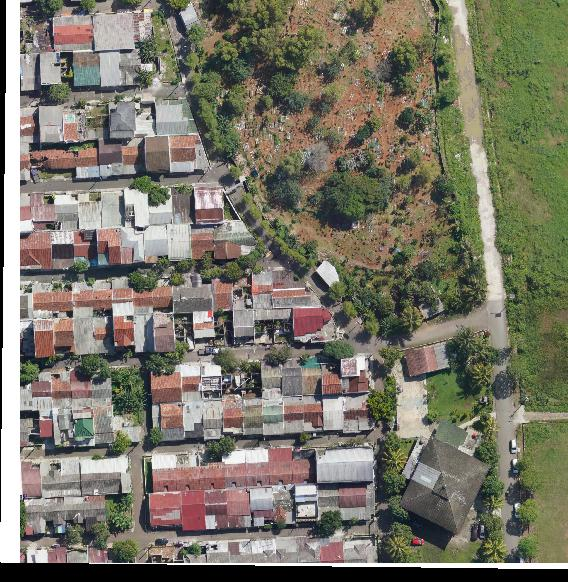building: (399, 419, 491, 535), (317, 448, 373, 482), (80, 458, 131, 494), (272, 271, 322, 307), (213, 221, 258, 259), (404, 343, 452, 377), (110, 102, 156, 137), (41, 458, 82, 497), (173, 273, 212, 313), (53, 14, 94, 52), (94, 13, 134, 50), (156, 100, 198, 134), (170, 135, 208, 172), (339, 482, 376, 520), (342, 393, 374, 433), (20, 231, 52, 269), (152, 403, 184, 441), (151, 365, 182, 403), (294, 306, 331, 336), (150, 492, 182, 526), (195, 187, 223, 223), (222, 450, 247, 489), (245, 449, 270, 488), (180, 491, 205, 530), (272, 484, 296, 524), (250, 487, 274, 527), (152, 455, 177, 493), (268, 448, 293, 486), (72, 406, 95, 447), (73, 230, 99, 266), (171, 187, 196, 224), (120, 227, 145, 264), (73, 52, 100, 86), (124, 189, 148, 227), (144, 225, 168, 263), (50, 231, 74, 269), (227, 489, 251, 527), (343, 537, 378, 563), (205, 490, 228, 529), (99, 139, 123, 176), (167, 224, 191, 261), (97, 228, 121, 265), (342, 358, 368, 392), (30, 194, 55, 229), (54, 195, 79, 230), (119, 48, 142, 86), (73, 318, 96, 356), (39, 106, 63, 142), (202, 400, 224, 439), (149, 188, 172, 225), (146, 136, 170, 171), (101, 192, 125, 227), (112, 279, 134, 317), (24, 497, 46, 535), (78, 194, 101, 230), (318, 484, 341, 520), (252, 270, 273, 309), (31, 372, 52, 411), (261, 361, 282, 400), (176, 457, 200, 491), (292, 450, 316, 484), (20, 54, 42, 91), (99, 50, 121, 87), (52, 408, 74, 445), (191, 224, 214, 259), (154, 314, 175, 352), (122, 138, 144, 174), (70, 371, 92, 407), (180, 365, 202, 401), (241, 399, 263, 435), (54, 319, 75, 356), (34, 320, 55, 357), (85, 495, 106, 532), (183, 401, 204, 438), (262, 398, 283, 435), (134, 315, 154, 353), (52, 371, 72, 409), (94, 406, 114, 444), (301, 357, 321, 395), (72, 282, 93, 318), (21, 461, 42, 497), (211, 276, 233, 310), (94, 317, 114, 354), (282, 359, 302, 396), (283, 396, 303, 433), (45, 498, 66, 533), (199, 462, 225, 490), (76, 148, 100, 178), (303, 395, 323, 431), (323, 395, 343, 431), (90, 374, 112, 406), (222, 400, 243, 433), (40, 52, 61, 84), (462, 426, 486, 454), (20, 108, 39, 143), (320, 536, 344, 563), (297, 536, 321, 563), (114, 316, 135, 346), (178, 4, 201, 31), (201, 361, 221, 391), (251, 539, 276, 563), (275, 537, 298, 563), (194, 310, 214, 339), (322, 364, 341, 394), (65, 496, 85, 524), (133, 12, 152, 41), (33, 292, 54, 318), (52, 292, 73, 318), (234, 310, 254, 337), (228, 541, 252, 563), (20, 321, 35, 356), (92, 282, 112, 308), (133, 288, 153, 314), (52, 148, 76, 169), (88, 545, 114, 563), (207, 542, 229, 563), (63, 112, 78, 140), (20, 196, 32, 231), (153, 286, 172, 308), (39, 409, 53, 437), (295, 485, 317, 502), (20, 144, 30, 180), (20, 383, 32, 411), (20, 294, 32, 320), (48, 547, 67, 562), (27, 550, 47, 563), (20, 419, 29, 447), (87, 128, 109, 139), (342, 359, 357, 375), (184, 554, 207, 563), (67, 553, 87, 563), (32, 0, 62, 1), (20, 0, 32, 2), (70, 0, 91, 1)
